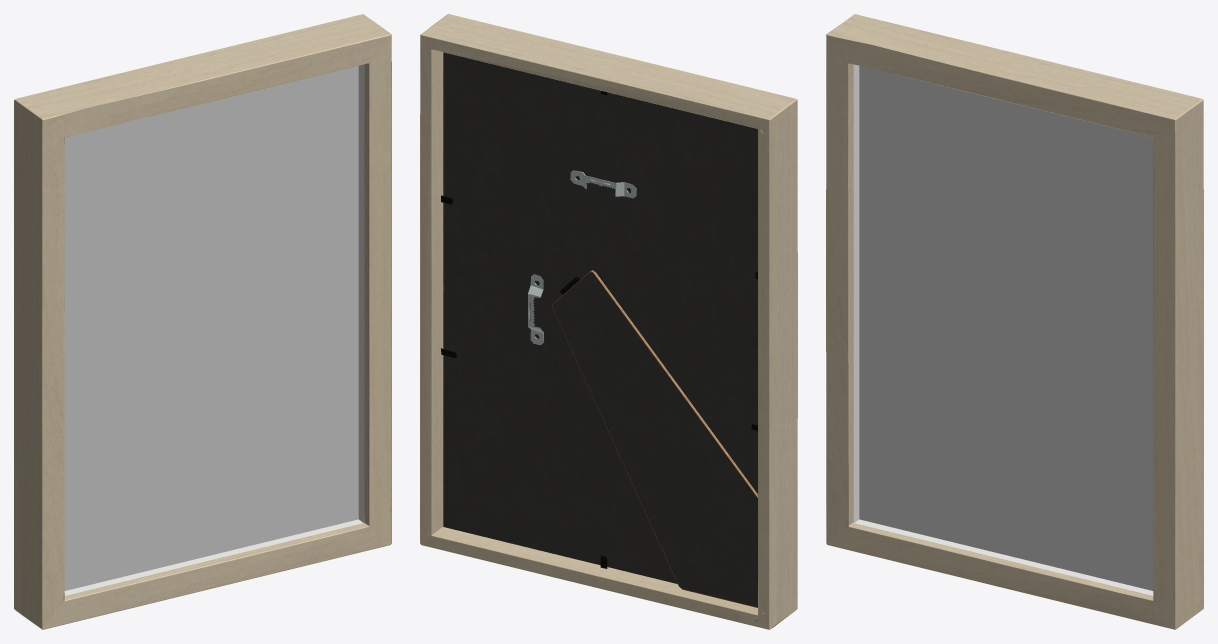
Rendered from rodalm_ramka_20548881.glb.
3 views of the same model, side by side, from view 1: azimuth 30°, elevation 25°; view 2: azimuth 150°, elevation 25°; view 3: azimuth 330°, elevation 25° (orthographic).
Visible parts, largest first — view 1: rodalm_ramka_20548881; view 2: rodalm_ramka_20548881; view 3: rodalm_ramka_20548881.
Boxes of the visible parts, x1,y1,x2,y2 form: rodalm_ramka_20548881: (14, 14, 391, 629); rodalm_ramka_20548881: (420, 14, 797, 629); rodalm_ramka_20548881: (826, 14, 1203, 629).
Size of the model in its own units: 0.228 by 0.318 by 0.0322.
2 materials, 2 textured.
